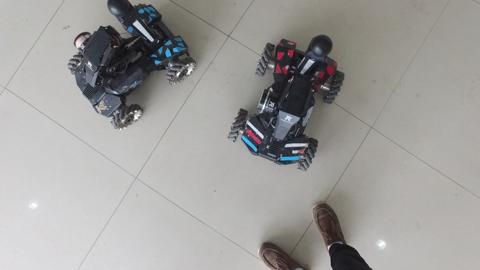chariot: (61, 1, 202, 131), (226, 26, 343, 178)
